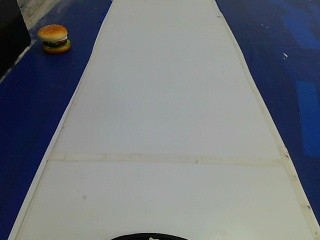burger: (29, 16, 71, 55)
